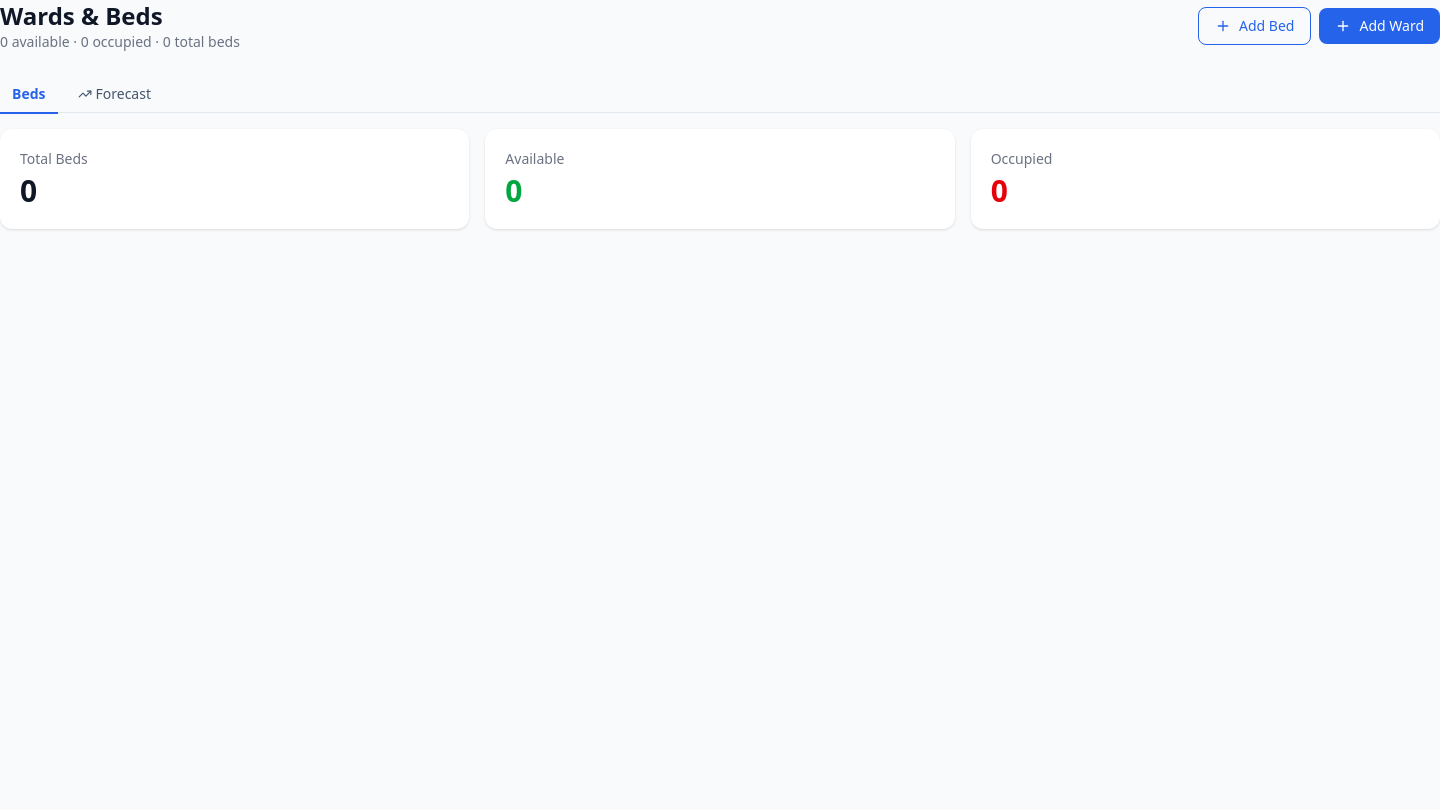
WardsPage (Wards & Beds admin — full surface) › Add Ward modal Cancel closes without firing POST
Click the button with test id "add-ward-cta": (1380, 26) [1320,8,1439,44]
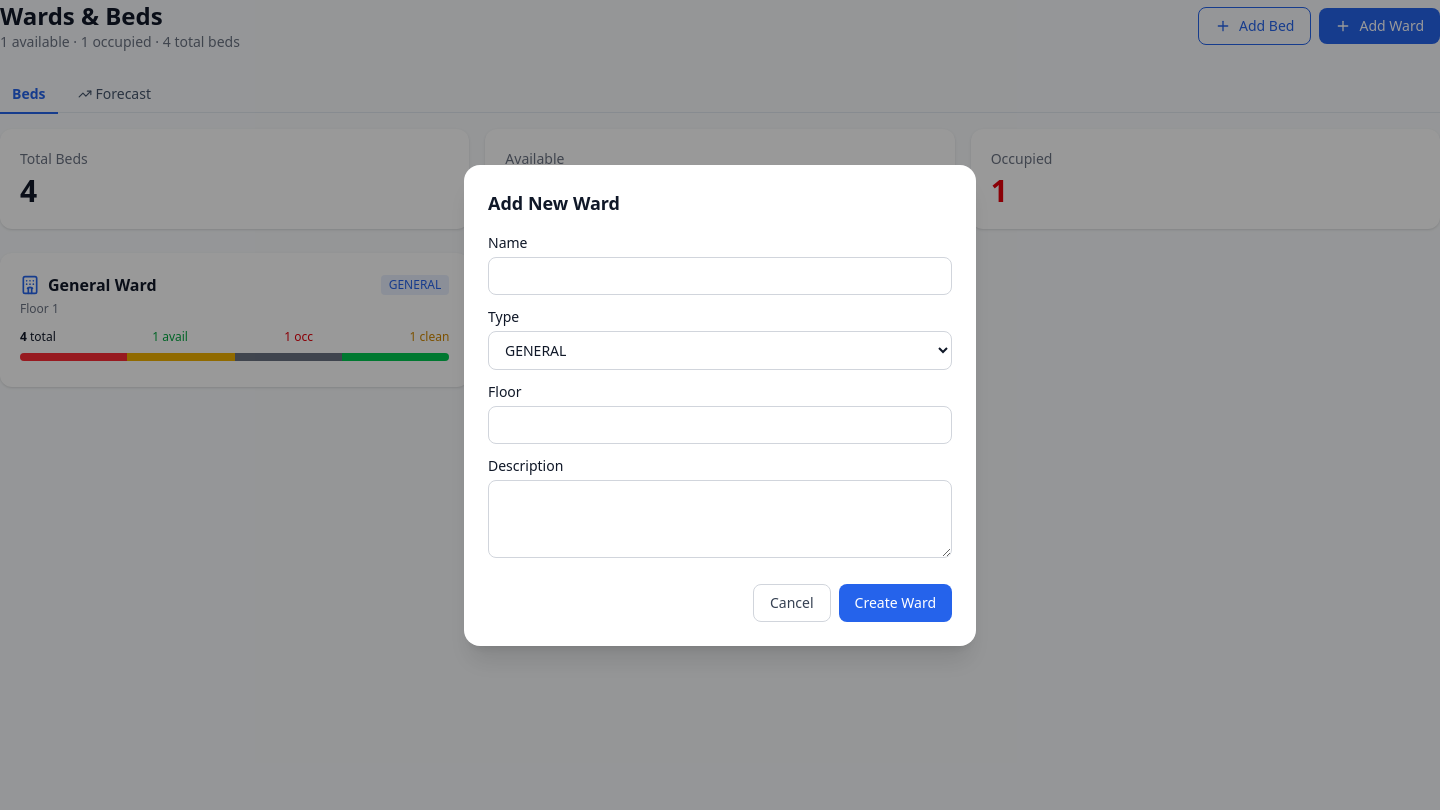
Check: the heading "Add New Ward" is shown, box [488,190,620,214]
Note: The modal has Cancel + Create Ward.
Click the button "Cancel": (792, 602) [753,584,831,622]
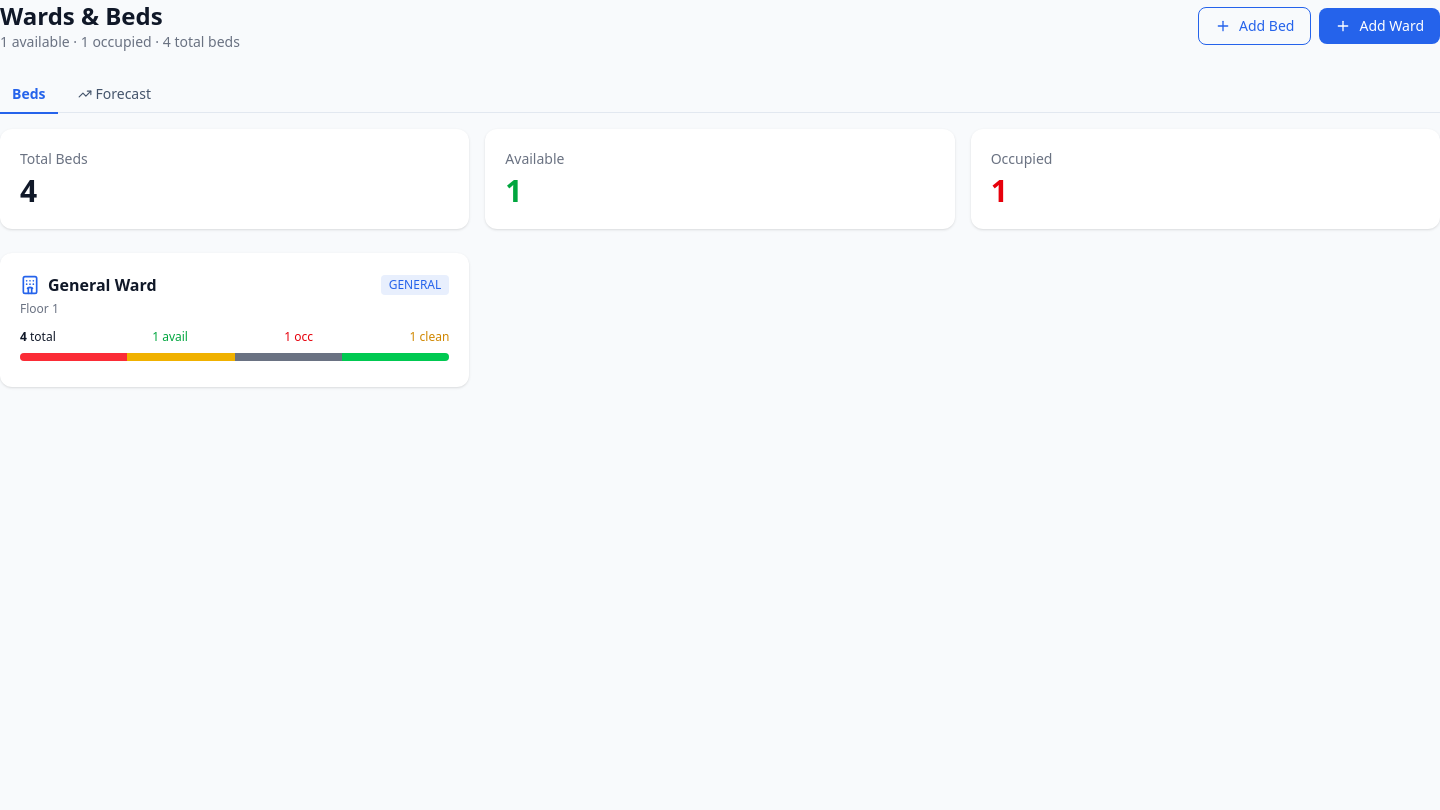
Check: the heading "Add New Ward" is gone
